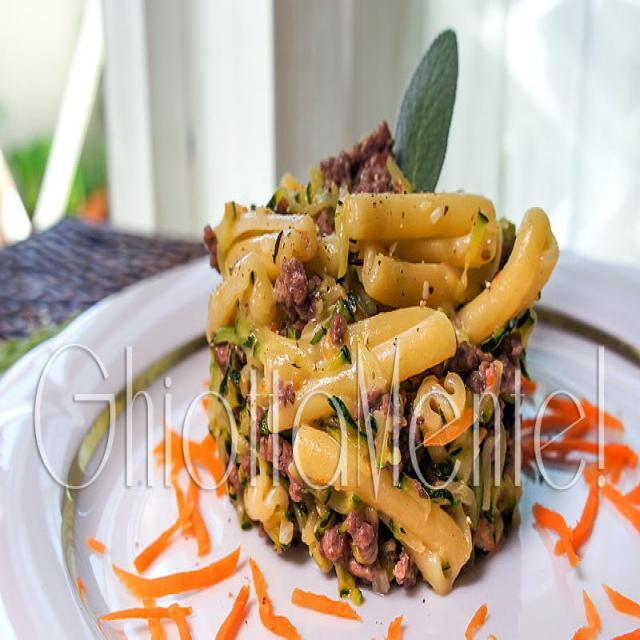Pasta al ragu: (174, 30, 588, 580)
